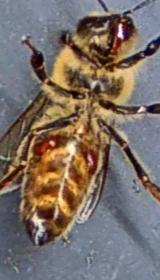varroa_mite: (29, 130, 63, 160), (76, 141, 102, 176)
